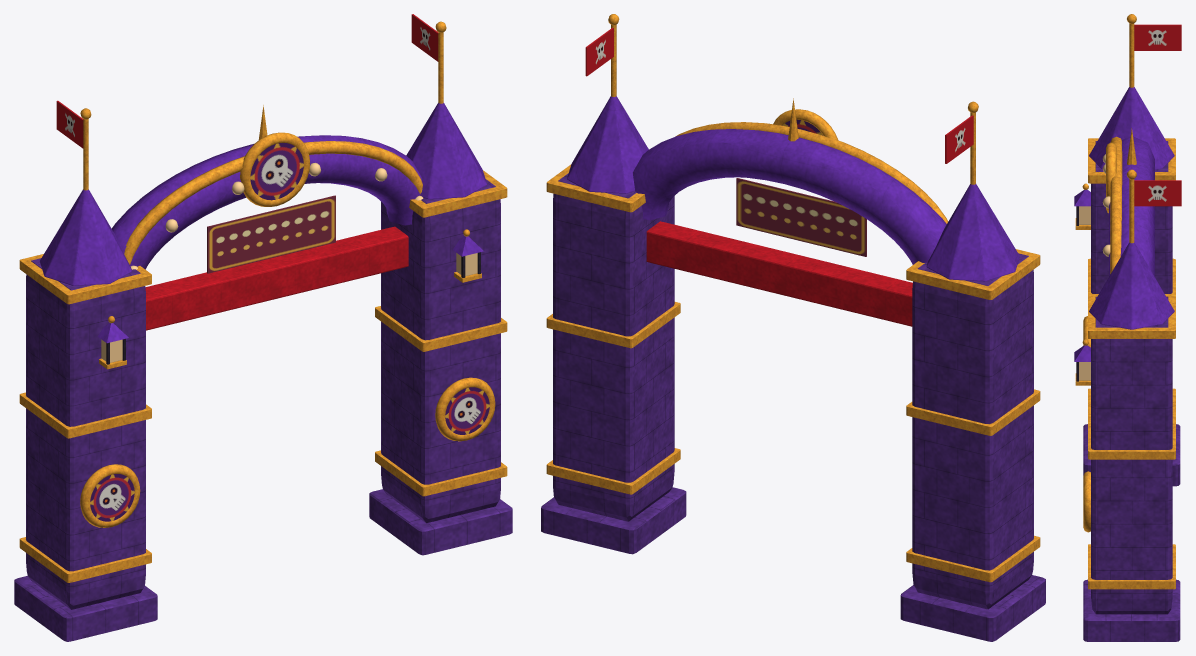
The model's file is MO_ExitGate.fbx.
3 views of the same model, side by side, from view 1: azimuth 30°, elevation 25°; view 2: azimuth 150°, elevation 25°; view 3: azimuth 270°, elevation 25° (orthographic). The views are drawn at different scales.
Parts seen in each view (by area): view 1: MO_ExitGate; view 2: MO_ExitGate; view 3: MO_ExitGate.
Boxes of the visible parts, bbox=[...] form: MO_ExitGate: bbox=[14, 14, 512, 641]; MO_ExitGate: bbox=[541, 14, 1045, 641]; MO_ExitGate: bbox=[1074, 14, 1181, 641].
Size of the model in its own units: 9.1 by 9.76 by 2.1.
